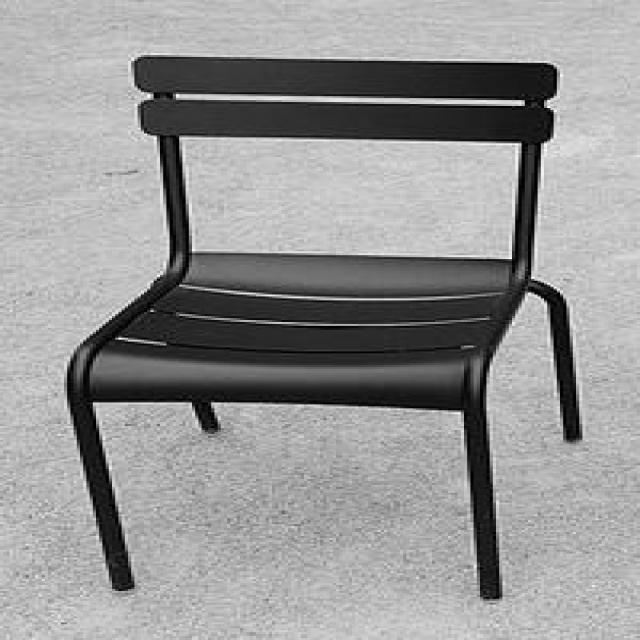chair: (62, 54, 580, 606)
